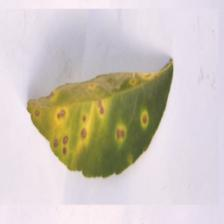canker: (7, 69, 114, 161)
